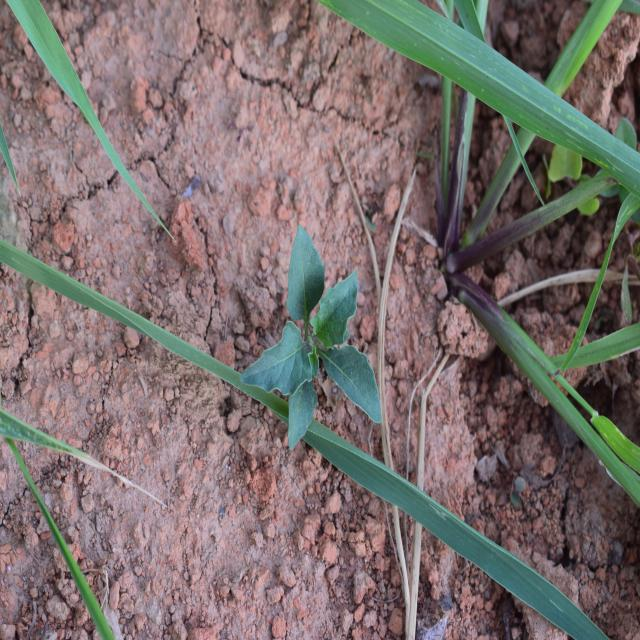Black_nightshade: (240, 237, 386, 453)
